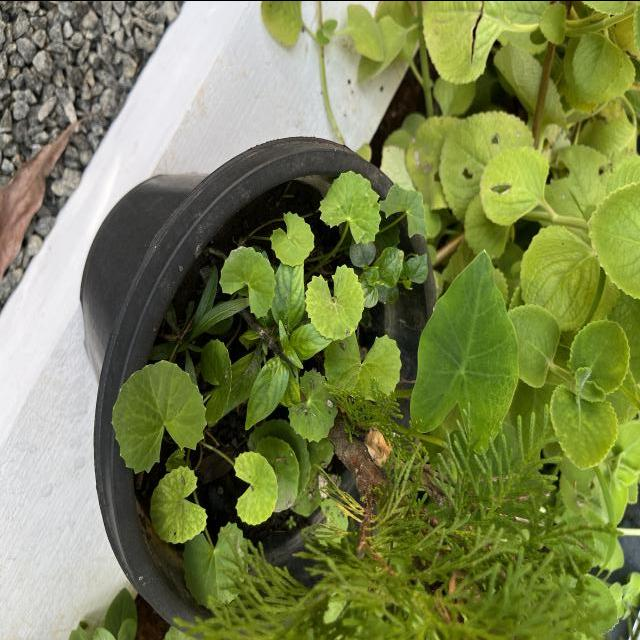Centella asiatica: (110, 357, 209, 475), (316, 166, 384, 246), (302, 260, 367, 342), (218, 242, 278, 320), (268, 208, 318, 268)
